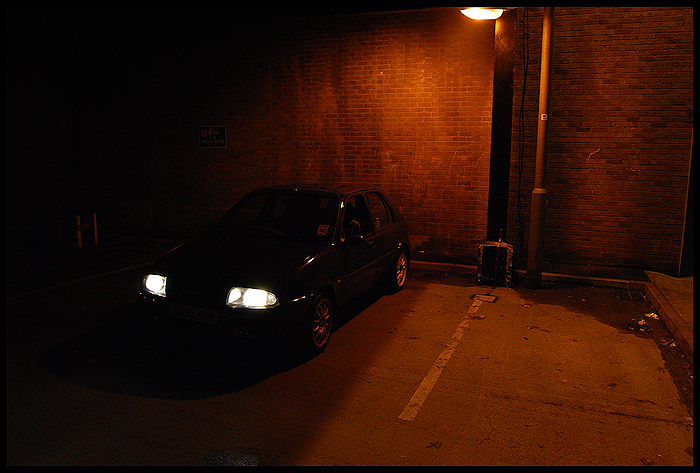car: (123, 175, 418, 372)
